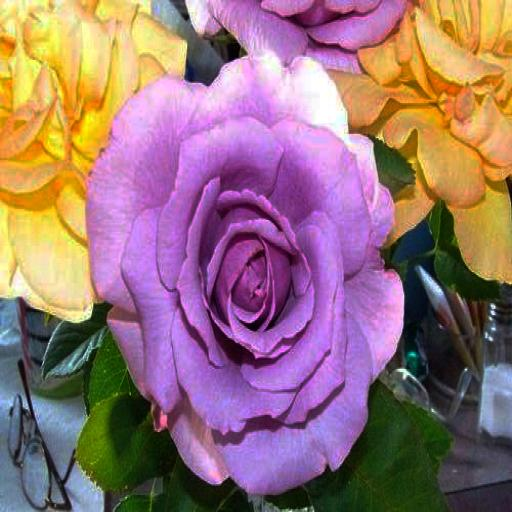rose: (89, 54, 407, 496)
